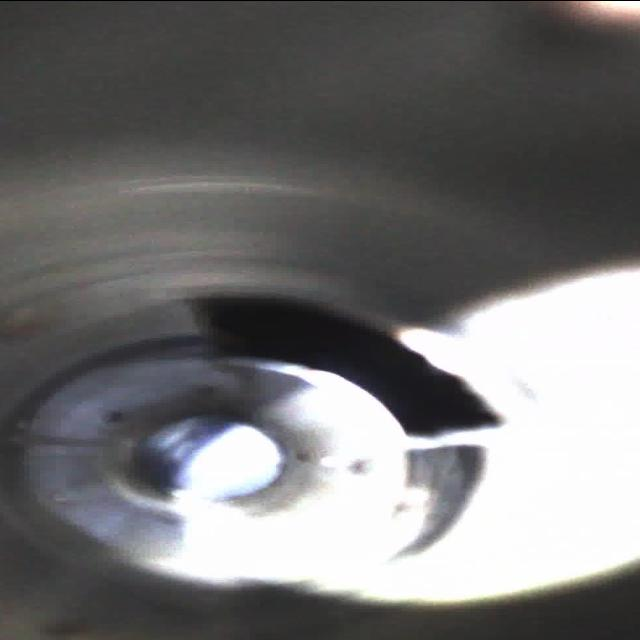hole: (166, 274, 530, 440)
